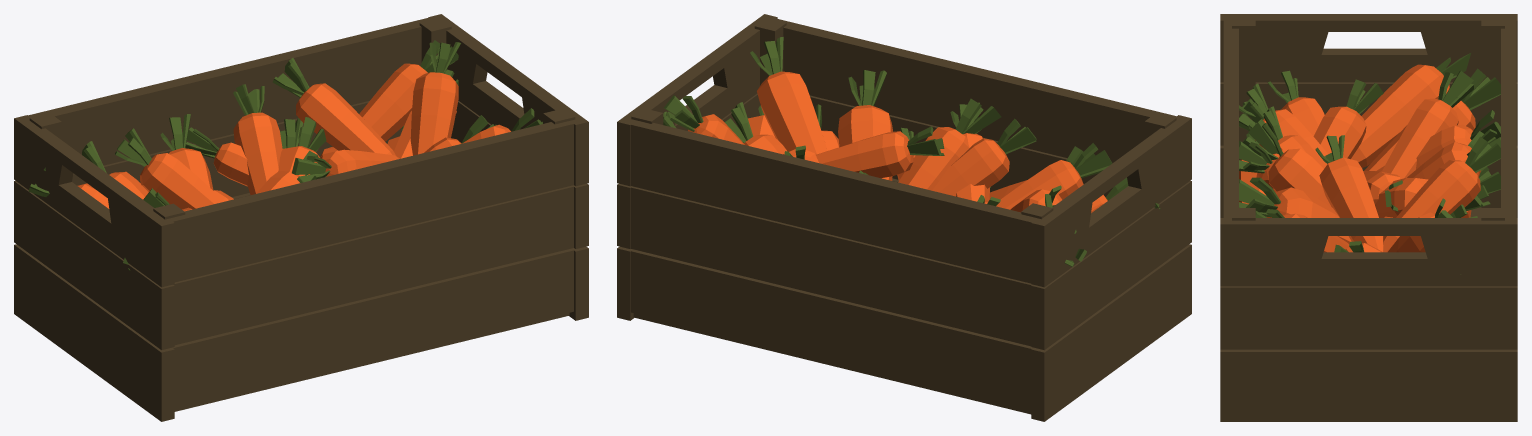
File: WoodenCrateCarrots_1.fbx
3 views of the same model, side by side, from view 1: azimuth 30°, elevation 25°; view 2: azimuth 150°, elevation 25°; view 3: azimuth 270°, elevation 25° (orthographic).
Visible parts, largest first — view 1: WoodenCrateCarrots_1; view 2: WoodenCrateCarrots_1; view 3: WoodenCrateCarrots_1.
Boxes of the visible parts, left/top/right/bottom form: WoodenCrateCarrots_1: left=14, top=14, right=588, bottom=421; WoodenCrateCarrots_1: left=617, top=14, right=1191, bottom=421; WoodenCrateCarrots_1: left=1220, top=14, right=1517, bottom=421.
Size of the model in its own units: 113 by 49.98 by 65.61.
